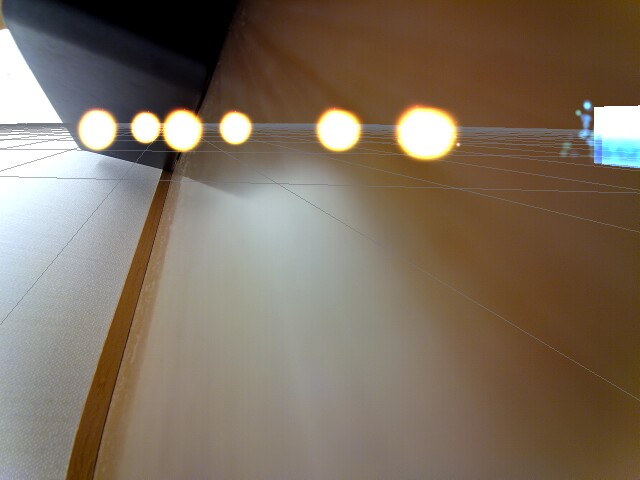firebig: (379, 101, 467, 166)
